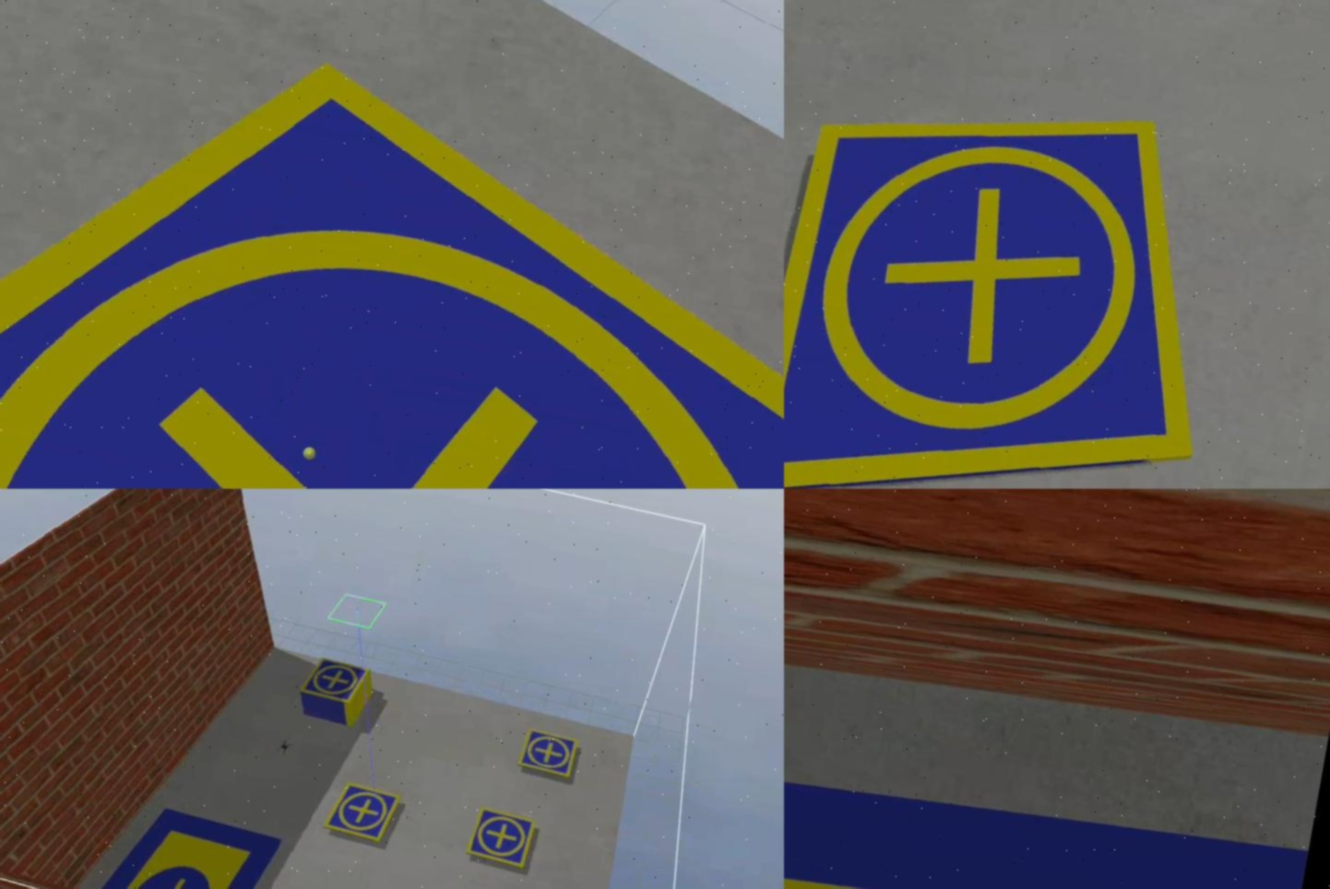large_base: (784, 731, 1308, 889), (95, 798, 283, 889)
small_base: (1, 1, 784, 490), (784, 63, 1250, 490), (322, 779, 403, 847), (465, 804, 540, 871), (301, 654, 371, 712), (513, 727, 582, 783)
